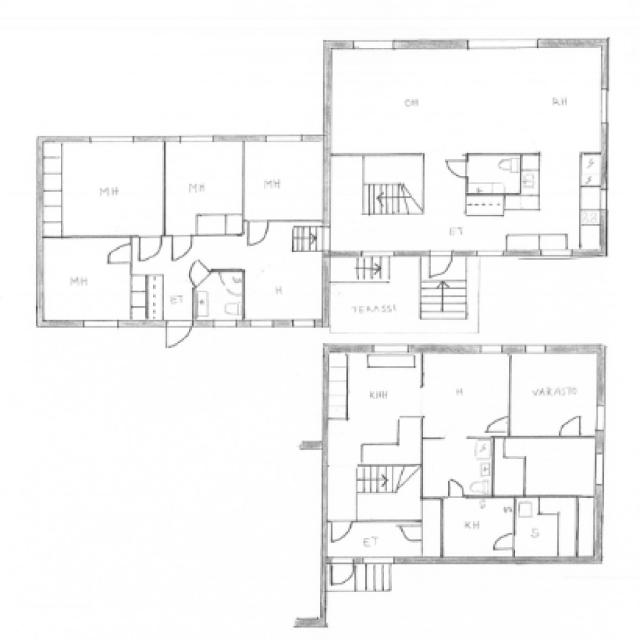door: (426, 249, 455, 282), (163, 318, 193, 349), (136, 233, 164, 264), (105, 240, 134, 266), (245, 218, 270, 248), (169, 233, 194, 262), (327, 518, 353, 544), (188, 259, 211, 287), (442, 418, 468, 442), (444, 157, 471, 180), (557, 415, 584, 438), (398, 521, 423, 544), (444, 478, 468, 499), (486, 416, 510, 437), (492, 532, 516, 552)
window: (465, 37, 539, 51), (329, 559, 358, 585), (368, 341, 414, 356), (87, 133, 137, 146), (352, 38, 396, 52), (598, 84, 612, 126), (176, 132, 216, 145), (262, 132, 304, 144), (80, 318, 121, 330), (594, 451, 606, 488), (594, 403, 607, 432), (210, 318, 240, 330), (359, 248, 398, 257), (472, 248, 507, 258), (522, 342, 549, 354), (479, 343, 505, 354)
zone: (329, 44, 610, 152), (322, 349, 423, 519), (41, 139, 165, 237), (40, 235, 135, 325), (244, 224, 326, 326), (509, 348, 601, 438), (163, 139, 244, 236), (422, 351, 511, 438), (490, 434, 600, 497), (243, 138, 325, 222), (134, 234, 192, 322), (440, 497, 516, 559), (422, 437, 495, 499), (513, 497, 585, 559), (325, 519, 425, 561), (193, 268, 245, 324), (466, 152, 522, 195), (420, 500, 443, 558), (466, 194, 505, 218), (580, 152, 606, 187)
